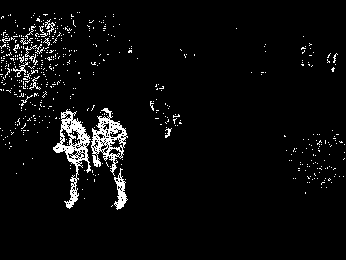person: (51, 109, 91, 210), (91, 106, 129, 212)
